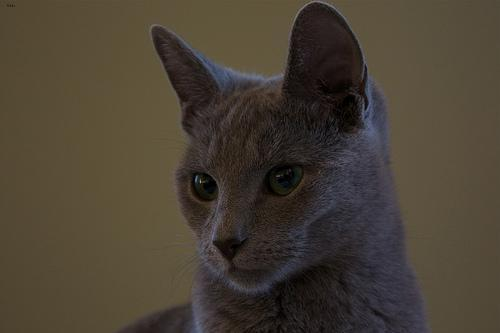cat: (129, 1, 425, 333)
